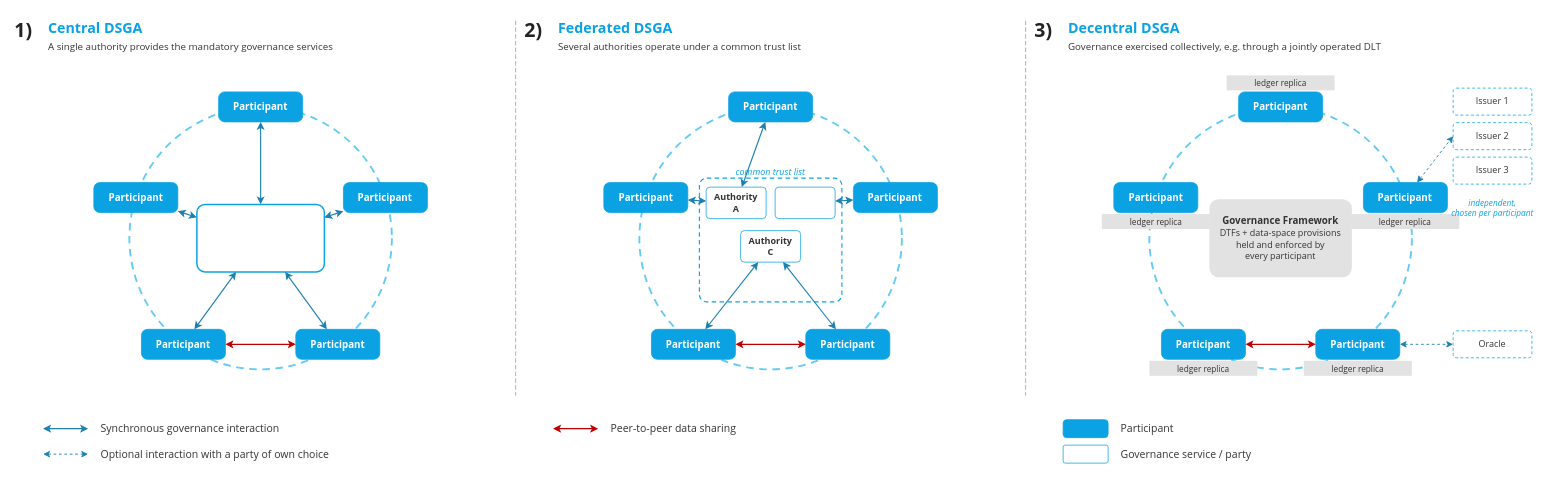
Some shapes in this 1552 by 477 pixel diagram are drawn without their labels. Here are the shapes that lost their labels. From the top down, the box of each, then its label:
(774, 186, 835, 219): Authority B
(196, 203, 325, 272): DSGA operations company onboarding · registry
